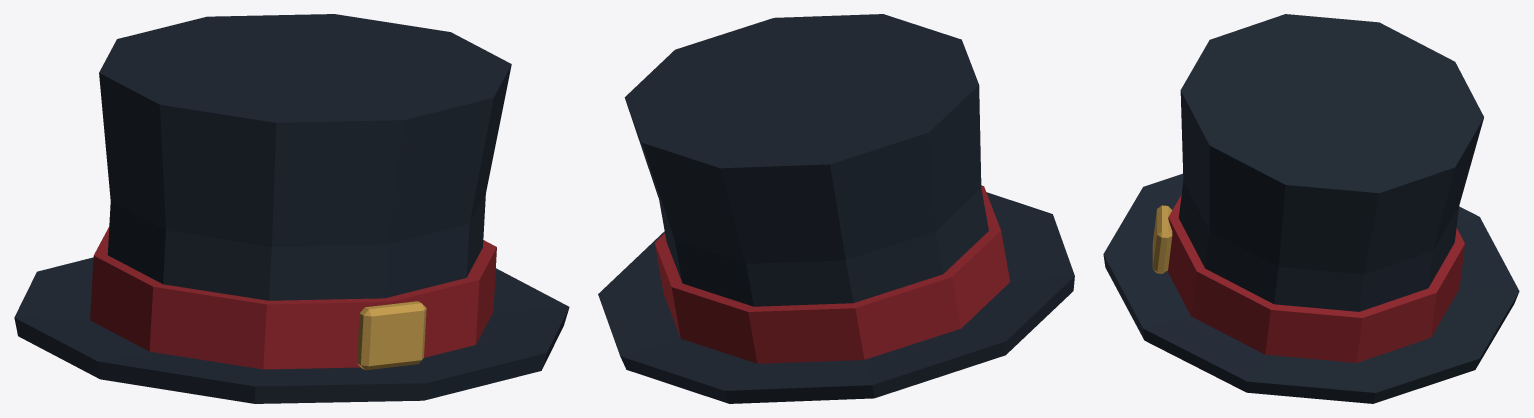
The model's file is Hat_Tophat.fbx.
The picture shows the model from 3 angles, left to right: view 1: azimuth 30°, elevation 25°; view 2: azimuth 150°, elevation 25°; view 3: azimuth 270°, elevation 25°; orthographic projection. The views are drawn at different scales.
Parts seen in each view (by area): view 1: Hat, HatBand, HatBuckle; view 2: Hat, HatBand; view 3: Hat, HatBand, HatBuckle.
Boxes of the visible parts, left/top/right/bottom form: Hat: left=14, top=14, right=569, bottom=403; HatBand: left=90, top=227, right=496, bottom=369; HatBuckle: left=357, top=301, right=426, bottom=370; Hat: left=598, top=14, right=1074, bottom=403; HatBand: left=654, top=185, right=1010, bottom=363; Hat: left=1103, top=14, right=1519, bottom=403; HatBand: left=1167, top=194, right=1464, bottom=362; HatBuckle: left=1152, top=205, right=1172, bottom=273.
Size of the model in its own units: 2.24 by 1.41 by 2.16.
